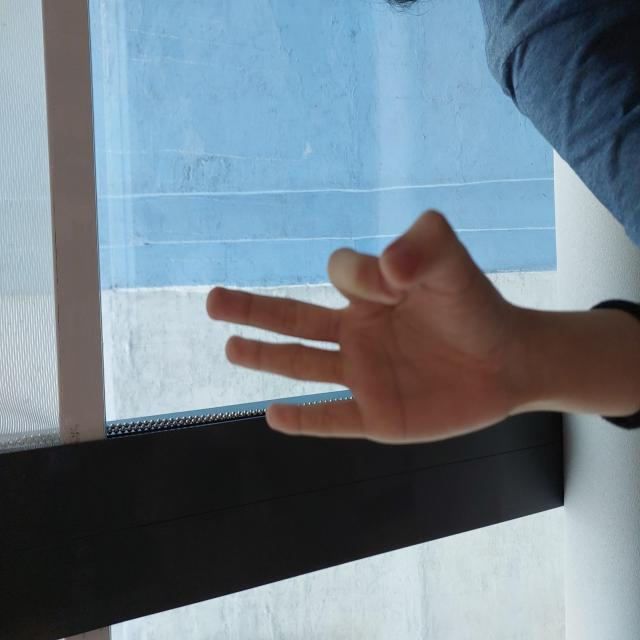F: (199, 204, 431, 499)
